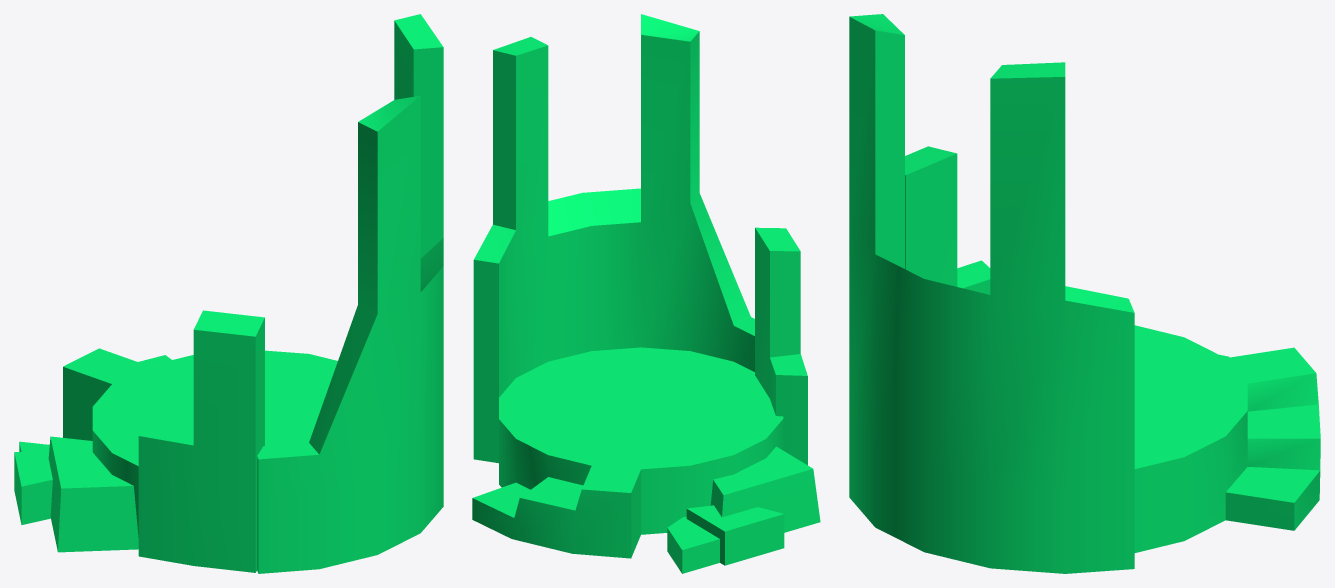
Rendered from Ruins3_Collision.FBX.
The picture shows the model from 3 angles, left to right: view 1: azimuth 30°, elevation 25°; view 2: azimuth 150°, elevation 25°; view 3: azimuth 270°, elevation 25°; orthographic projection. The views are drawn at different scales.
Parts seen in each view (by area): view 1: Ruins3_Collision; view 2: Ruins3_Collision; view 3: Ruins3_Collision.
Boxes of the visible parts, box(x1,y1,x2,y2) form: Ruins3_Collision: box(14, 14, 443, 573); Ruins3_Collision: box(472, 14, 820, 573); Ruins3_Collision: box(849, 14, 1320, 573).
Bounding box in the file's own units: 13.99 × 16.34 × 13.73.
